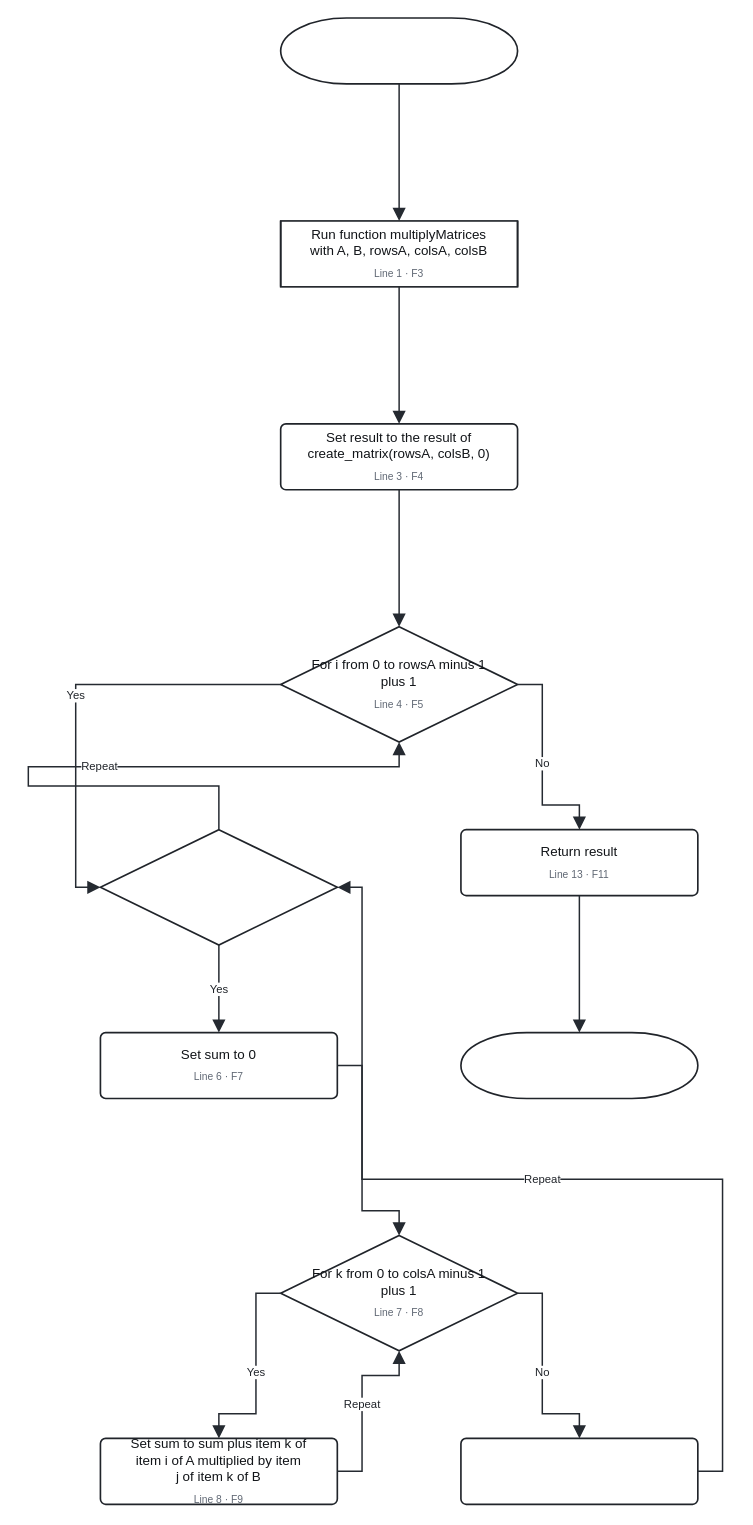
Image size: 753x1525. Some labels were removed from this diagram. The shapes that lost their labels are listed below. From the top down, each one's centre as x and y in pixels, then its label:
the point at 398,50: Start Line 1 · F1
the point at 218,886: For j from 0 to colsB minus 1 plus 1 Line 5 · F6
the point at 579,1065: End Line 1 · F2
the point at 579,1471: Set item j of item i of result to sum Line 10 · F10
